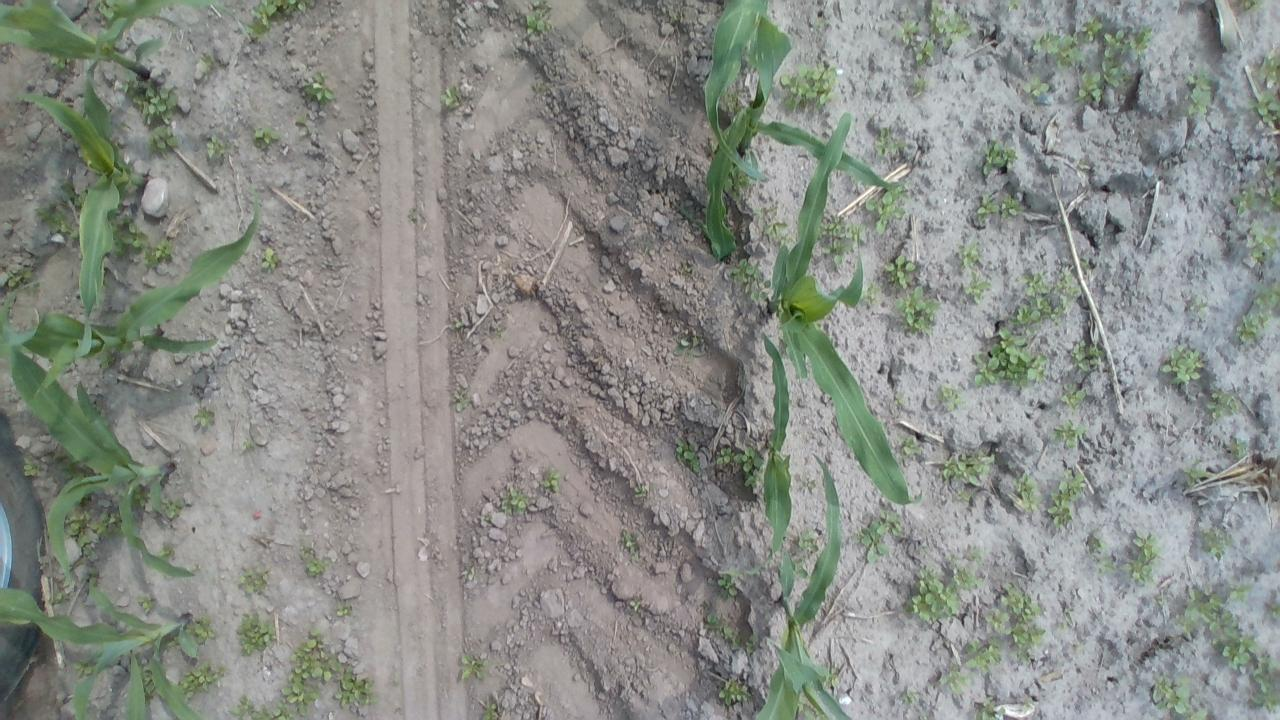Maize: (754, 102, 908, 509), (1, 318, 213, 590), (11, 193, 262, 399), (8, 68, 137, 338), (0, 575, 210, 720), (758, 454, 854, 720), (1, 1, 238, 82)
Weeds: (1181, 576, 1258, 674), (906, 547, 984, 623), (1080, 12, 1156, 88), (278, 627, 339, 713), (970, 326, 1052, 388), (1006, 268, 1080, 326), (1230, 158, 1280, 221), (855, 506, 908, 564), (985, 582, 1043, 635), (34, 182, 84, 242), (781, 63, 838, 114), (120, 75, 180, 122), (898, 16, 933, 94), (250, 0, 320, 39), (1152, 672, 1208, 720), (1237, 282, 1280, 343), (1047, 468, 1087, 530), (893, 286, 941, 334), (716, 444, 766, 489), (928, 2, 971, 54), (818, 215, 864, 262), (1122, 530, 1162, 584), (940, 450, 996, 488), (866, 183, 906, 236), (1248, 654, 1280, 720), (108, 210, 150, 260), (234, 612, 278, 659), (1160, 344, 1206, 388), (178, 660, 226, 702), (335, 662, 378, 708), (65, 506, 98, 565), (1180, 68, 1214, 121), (1032, 29, 1080, 66), (732, 258, 768, 304), (229, 697, 294, 720), (1248, 220, 1280, 266), (1011, 622, 1044, 666), (1066, 338, 1105, 374), (702, 609, 742, 644), (982, 139, 1018, 177), (1010, 470, 1044, 510), (1050, 417, 1090, 450), (961, 638, 1002, 670), (300, 70, 338, 104), (1248, 89, 1280, 129), (883, 252, 917, 288), (873, 124, 907, 160), (672, 437, 703, 476), (298, 546, 334, 579), (1252, 50, 1280, 90), (523, 4, 555, 38), (718, 676, 752, 708), (143, 238, 178, 268), (966, 695, 1008, 720), (498, 486, 534, 515), (961, 271, 993, 303), (148, 126, 180, 158), (1200, 528, 1234, 558), (1206, 389, 1238, 420), (939, 662, 972, 692), (238, 566, 272, 595), (459, 650, 490, 681), (956, 241, 985, 274), (1055, 380, 1088, 409), (198, 49, 234, 75), (760, 212, 790, 243), (1075, 71, 1103, 104), (712, 569, 743, 598), (95, 508, 123, 538), (675, 330, 707, 356), (936, 384, 963, 413), (975, 190, 1001, 220), (1020, 74, 1050, 100), (2, 269, 34, 293), (1182, 461, 1212, 486), (72, 653, 100, 679), (192, 617, 218, 645), (726, 172, 752, 199), (1222, 436, 1250, 461), (898, 432, 922, 461), (207, 136, 230, 165), (252, 126, 278, 150), (891, 388, 915, 413), (439, 84, 463, 109), (138, 659, 155, 694), (88, 0, 121, 18), (1184, 292, 1211, 314), (797, 529, 821, 553), (160, 497, 184, 521), (1004, 190, 1024, 218), (131, 486, 154, 510), (862, 280, 883, 306), (156, 542, 180, 564), (541, 467, 562, 492), (797, 700, 826, 718), (260, 246, 280, 272), (1091, 530, 1111, 556), (46, 53, 72, 72), (21, 458, 45, 478), (896, 687, 919, 707), (630, 483, 654, 502), (192, 407, 213, 428), (619, 530, 639, 552), (408, 208, 430, 228), (46, 587, 66, 608), (819, 666, 840, 686), (481, 699, 502, 719), (450, 392, 470, 412), (137, 595, 156, 615), (334, 602, 355, 620), (794, 554, 808, 580), (1238, 0, 1264, 14), (1098, 554, 1118, 572), (1018, 694, 1038, 712), (464, 565, 482, 584), (676, 260, 695, 278), (1269, 597, 1280, 627), (745, 634, 758, 659), (626, 595, 644, 612), (1006, 0, 1024, 11), (956, 490, 972, 502), (455, 321, 470, 333)
